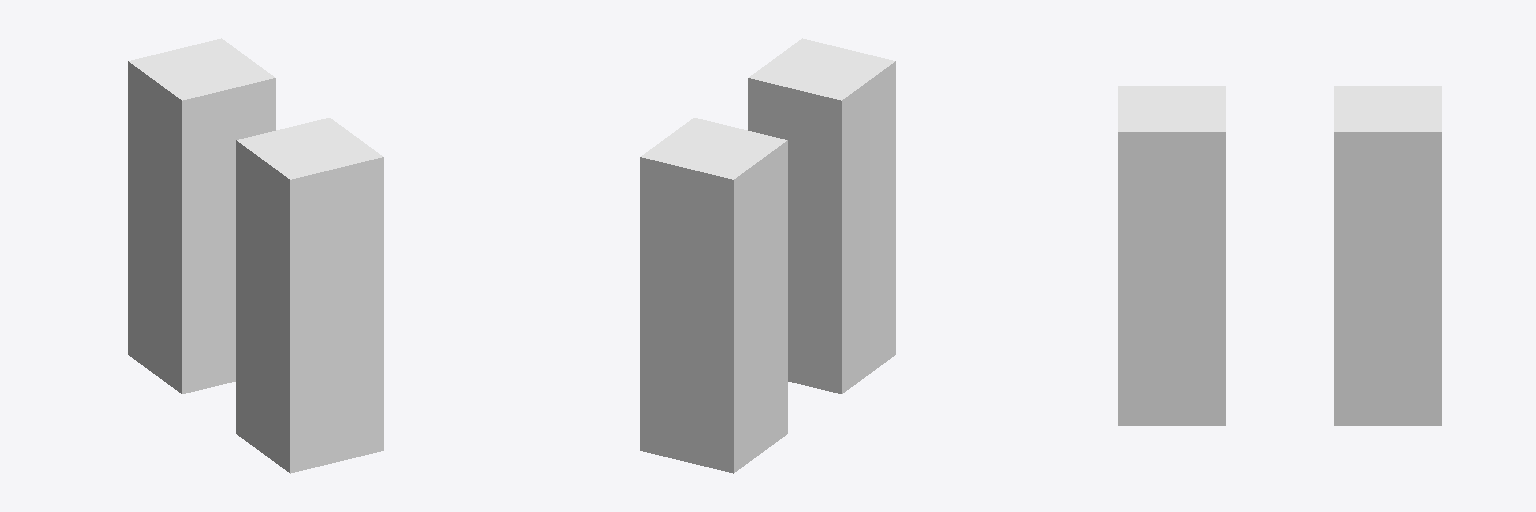
Rendered from Osiris_gold-0.obj.
The picture shows the model from 3 angles: view 1: azimuth 30°, elevation 25°; view 2: azimuth 150°, elevation 25°; view 3: azimuth 270°, elevation 25°; orthographic projection.
Visible parts, largest first — view 1: object 1; view 2: object 1; view 3: object 1.
Part boxes in pixels (x1,y1,x2,y2): object 1: (128,38,383,473); object 1: (640,38,895,473); object 1: (1118,86,1441,425).
Size of the model in its own units: 0.1 by 0.3 by 0.3.